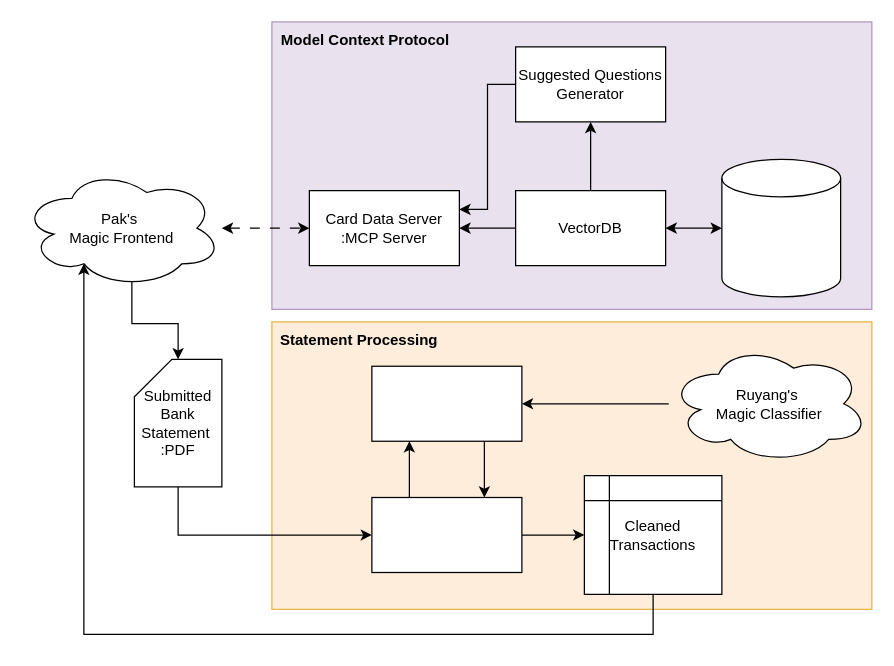
Image size: 894x666. Some labels were removed from this diagram. Each missing label, with the centre of its shape:
"Card T&C Data :ChromaDB" goes at point (781, 227).
"MerchantCategorizer" goes at point (446, 403).
"PDFStatementParser" goes at point (446, 534).
